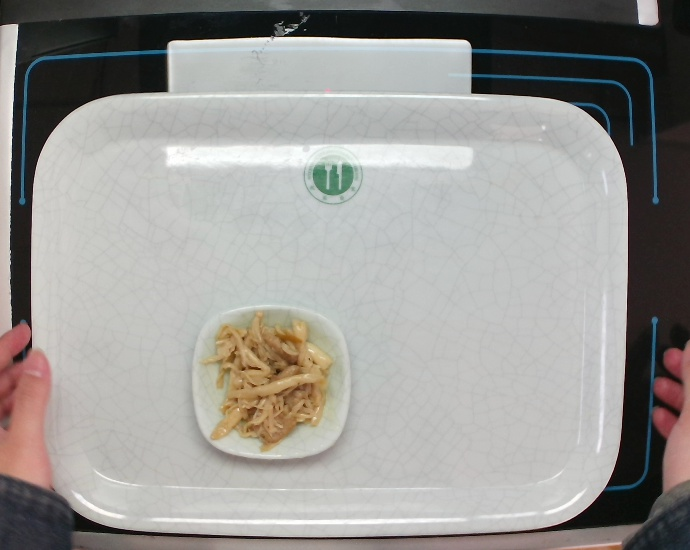JYsf-Si_Fang_Die: (188, 302, 357, 465)
